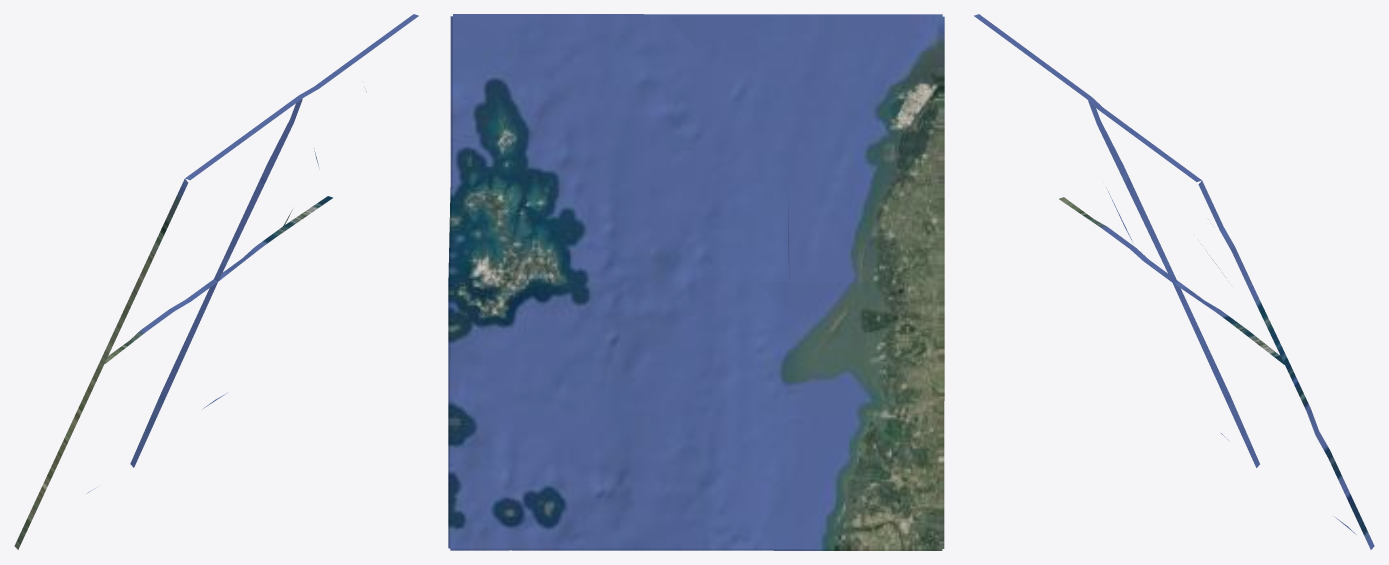
3 views of the same model, side by side, from view 1: azimuth 30°, elevation 25°; view 2: azimuth 150°, elevation 25°; view 3: azimuth 270°, elevation 25° (orthographic). The views are drawn at different scales.
Bounding box in the file's own units: 78803 × 72491 × 64016.
Materials: 1 (1 with a texture image).
